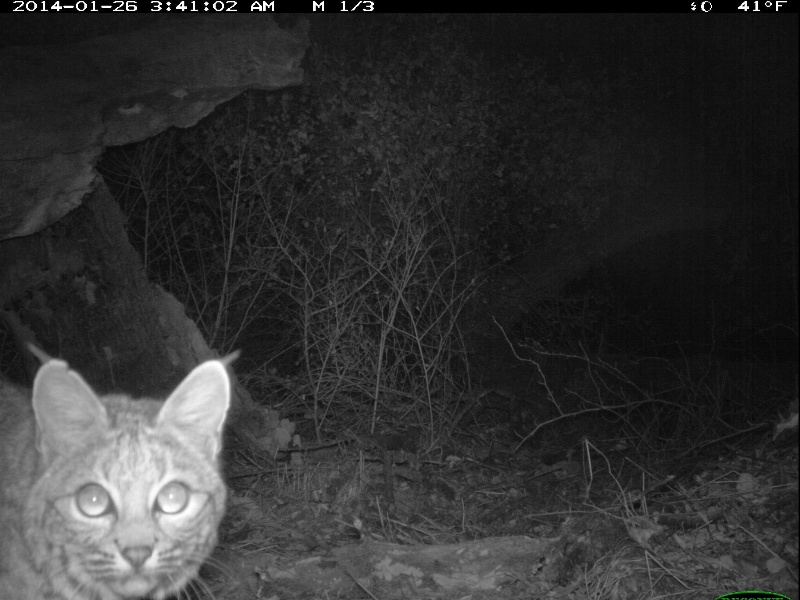cat: (1, 347, 243, 600)
